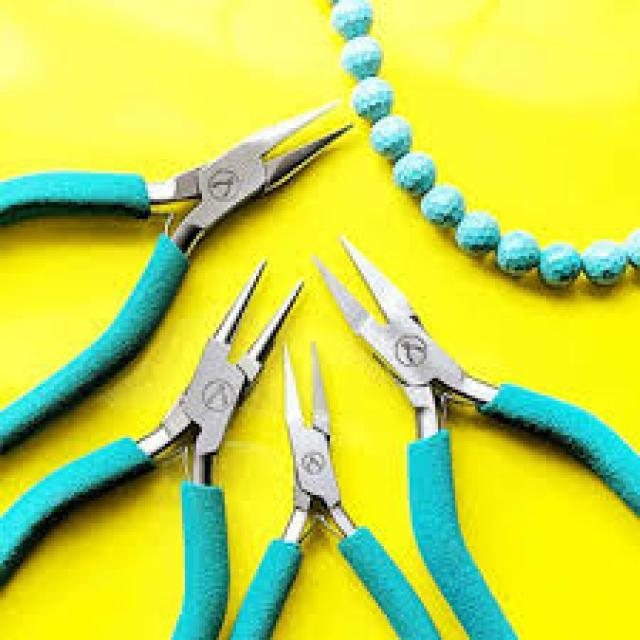pliers: (304, 224, 639, 640), (0, 88, 356, 455), (0, 253, 299, 637), (239, 335, 440, 640)
